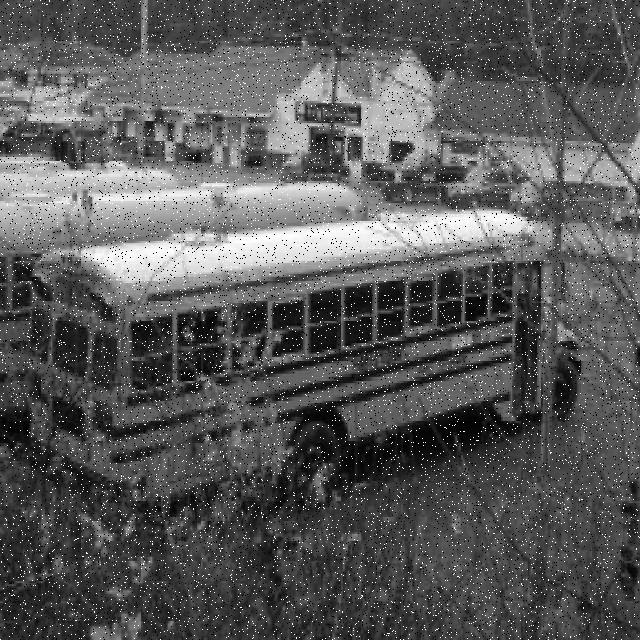Bus: (28, 210, 587, 515)
